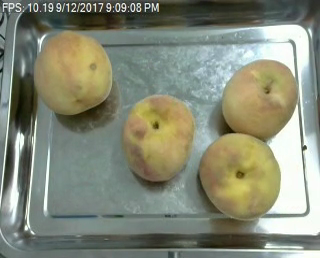Peach: (199, 133, 281, 218), (33, 29, 112, 116), (122, 94, 196, 183), (219, 57, 297, 139)
